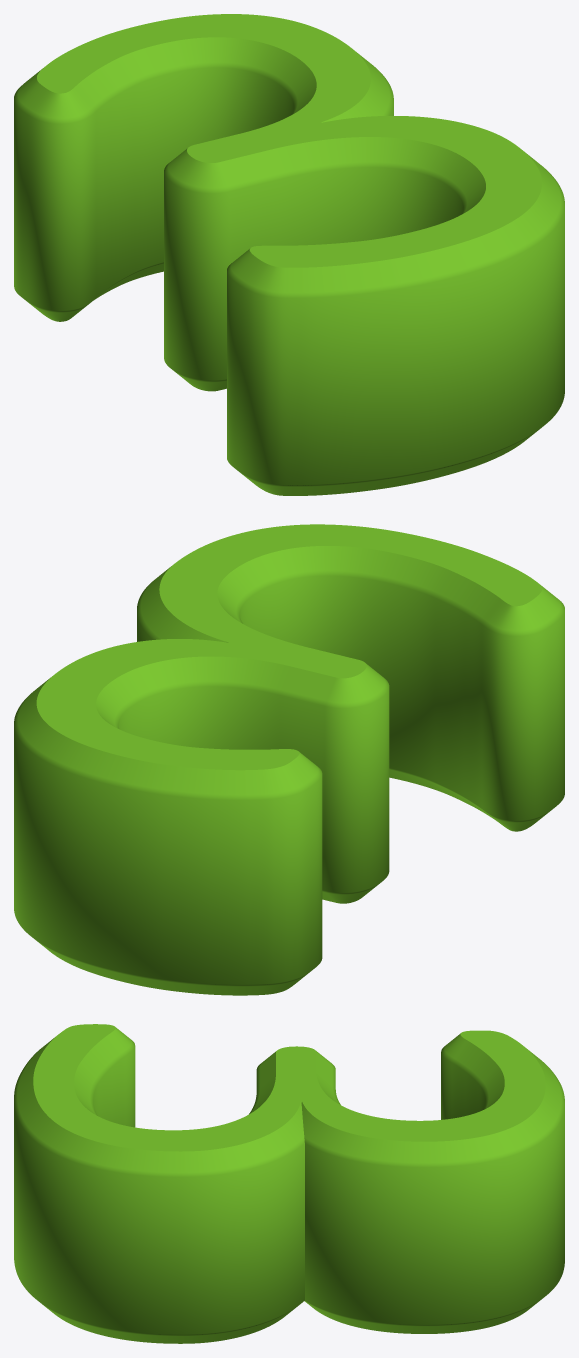
The model's file is three.obj.
3 renders of one model, top to bottom at view 1: azimuth 30°, elevation 25°; view 2: azimuth 150°, elevation 25°; view 3: azimuth 270°, elevation 25°, orthographic. The views are drawn at different scales.
Parts seen in each view (by area): view 1: suji; view 2: suji; view 3: suji.
Part boxes in pixels (x1,y1,x2,y2): suji: (14, 14, 564, 495); suji: (14, 524, 564, 995); suji: (14, 1024, 564, 1343).
Bounding box in the file's own units: 0.3524 × 0.22 × 0.5712.
1 material, 1 textured.
